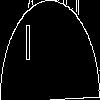I: (25, 25, 31, 70)
